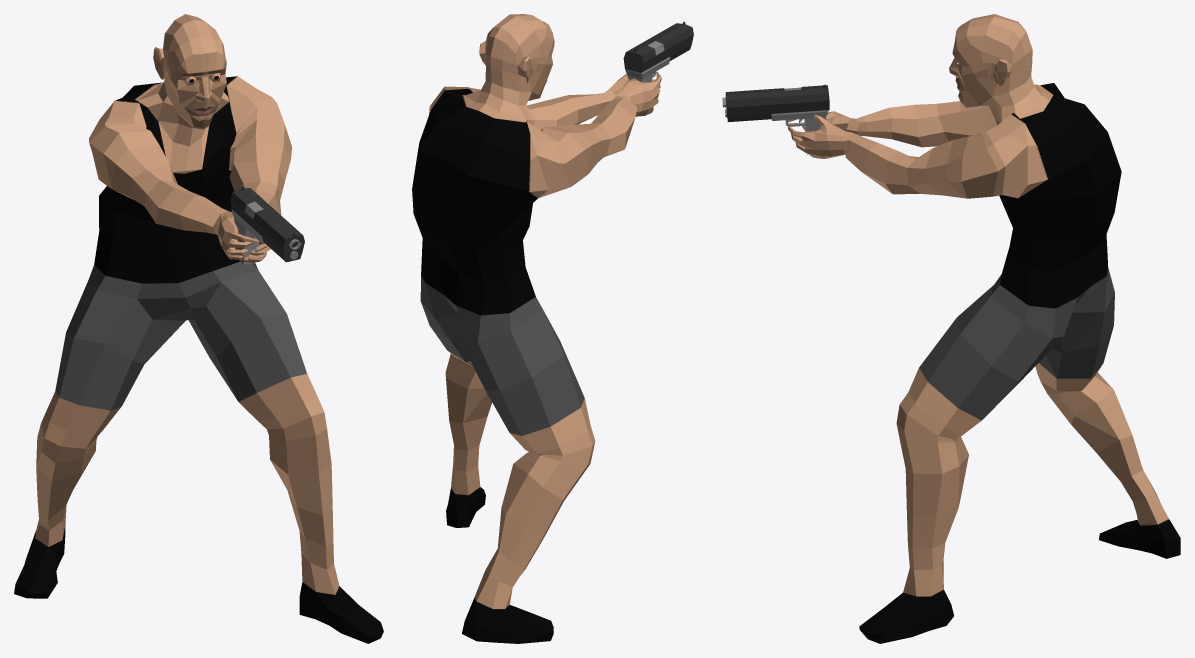
File: PlayerShoot(4).obj
3 views of the same model, side by side, from view 1: azimuth 30°, elevation 25°; view 2: azimuth 150°, elevation 25°; view 3: azimuth 270°, elevation 25° (orthographic). The views are drawn at different scales.
Parts seen in each view (by area): view 1: Plane002, Box003; view 2: Plane002, Box003; view 3: Plane002, Box003.
Boxes of the visible parts, bbox=[...] form: Plane002: bbox=[14, 14, 383, 643]; Box003: bbox=[230, 186, 304, 265]; Plane002: bbox=[412, 14, 661, 643]; Box003: bbox=[623, 21, 693, 82]; Plane002: bbox=[787, 14, 1180, 643]; Box003: bbox=[722, 84, 829, 154].
Bounding box in the file's own units: 716 × 1666 × 1219.
